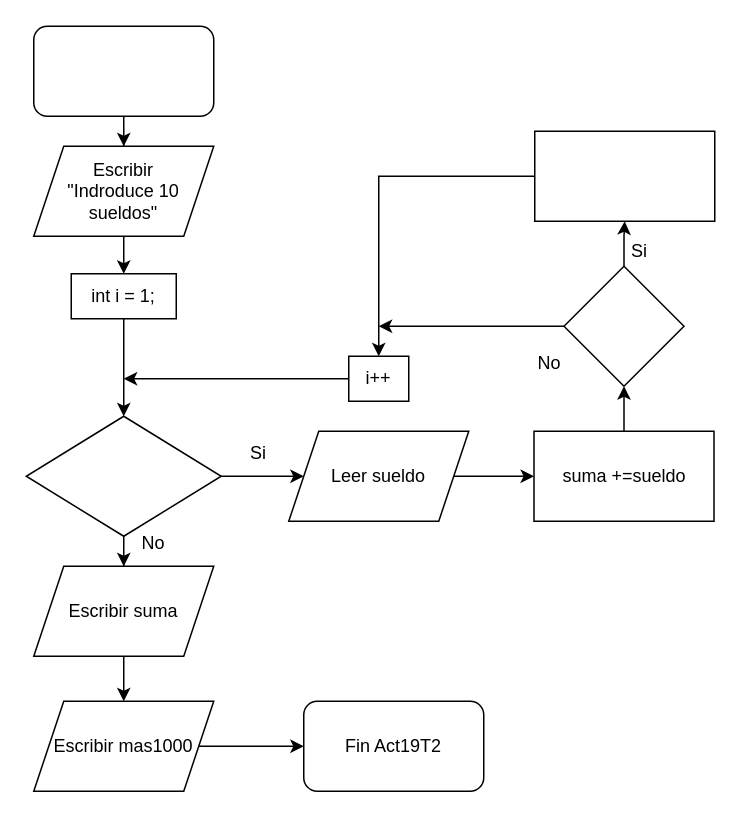
This 741x818 diagram has some shape labels left out. Each missing label, with the centre of its shape:
I <=10?: the point at 123,475
Inicio Act19T2: the point at 123,70
mas1000++: the point at 624,175
sueldo > 1000?: the point at 623,325
